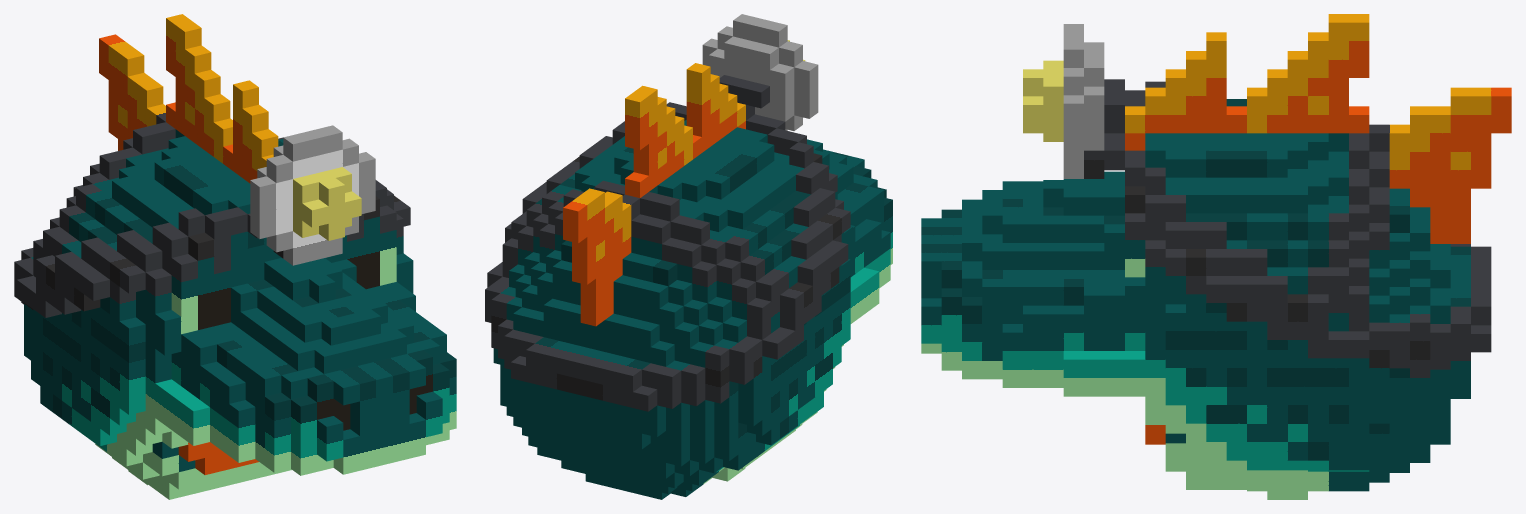
File: doctor_red glasses.gltf
3 renders of one model, left to right at view 1: azimuth 30°, elevation 25°; view 2: azimuth 150°, elevation 25°; view 3: azimuth 270°, elevation 25°, orthographic. The views are drawn at different scales.
Parts seen in each view (by area): view 1: C14_H_DoctorL_RedG_RBSpec-Mesh; view 2: C14_H_DoctorL_RedG_RBSpec-Mesh; view 3: C14_H_DoctorL_RedG_RBSpec-Mesh.
Part boxes in pixels (x1,y1,x2,y2): C14_H_DoctorL_RedG_RBSpec-Mesh: (14, 14, 456, 499); C14_H_DoctorL_RedG_RBSpec-Mesh: (485, 14, 892, 499); C14_H_DoctorL_RedG_RBSpec-Mesh: (921, 14, 1511, 499).
Size of the model in its own units: 19 by 24 by 29.
1 material, 1 textured.
